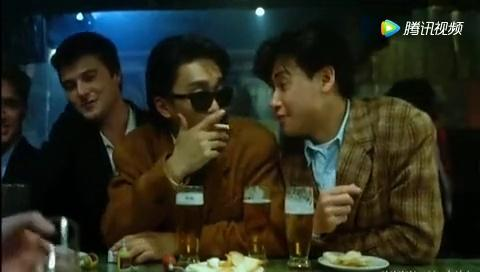smoke: (212, 122, 232, 131)
